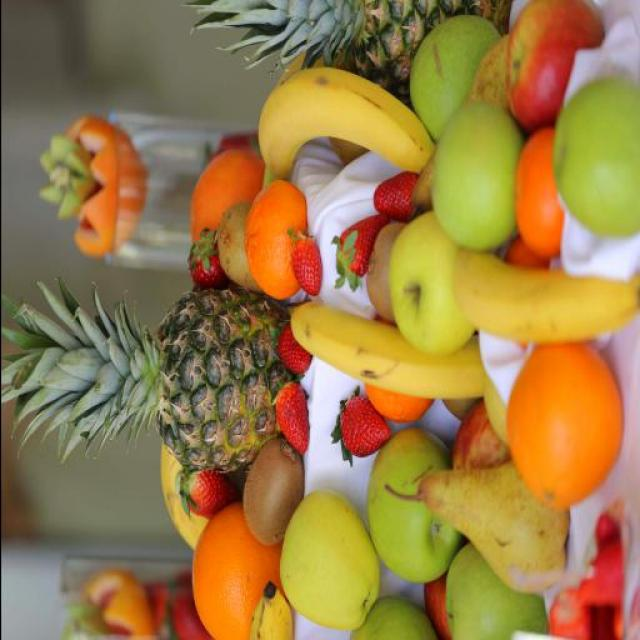Apple: (365, 428, 458, 583), (278, 488, 377, 631), (550, 78, 637, 240), (430, 101, 522, 251), (505, 0, 604, 132), (409, 13, 500, 144), (389, 212, 471, 355), (444, 541, 547, 640), (348, 594, 437, 640)
Banana: (257, 66, 434, 179), (290, 301, 488, 400), (450, 249, 639, 345)
Orange: (506, 341, 623, 507), (190, 502, 282, 640), (243, 181, 305, 299), (188, 146, 263, 243), (513, 128, 563, 260)
